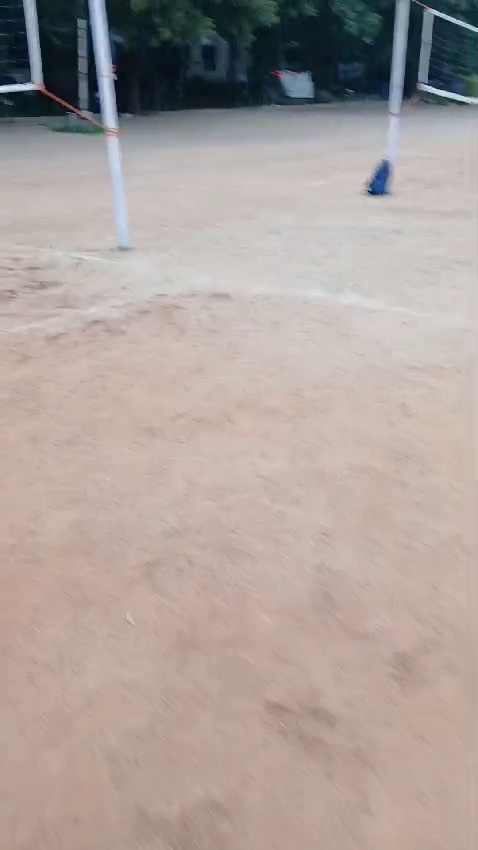bag: (358, 153, 400, 205)
